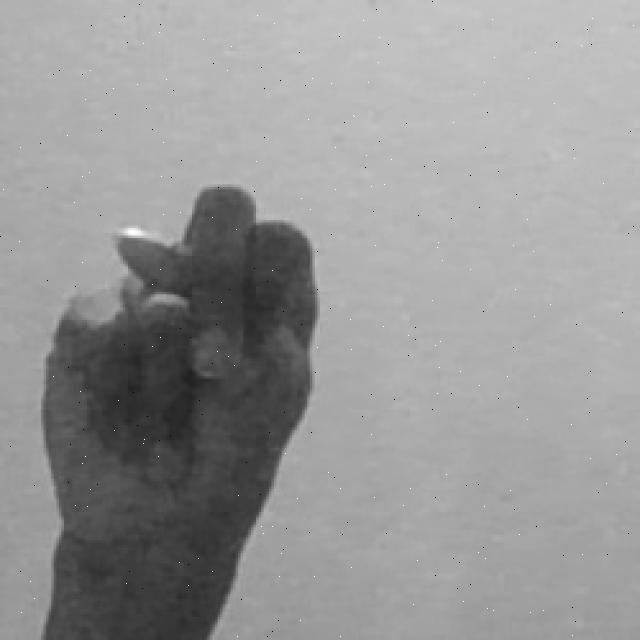N: (34, 181, 325, 640)
